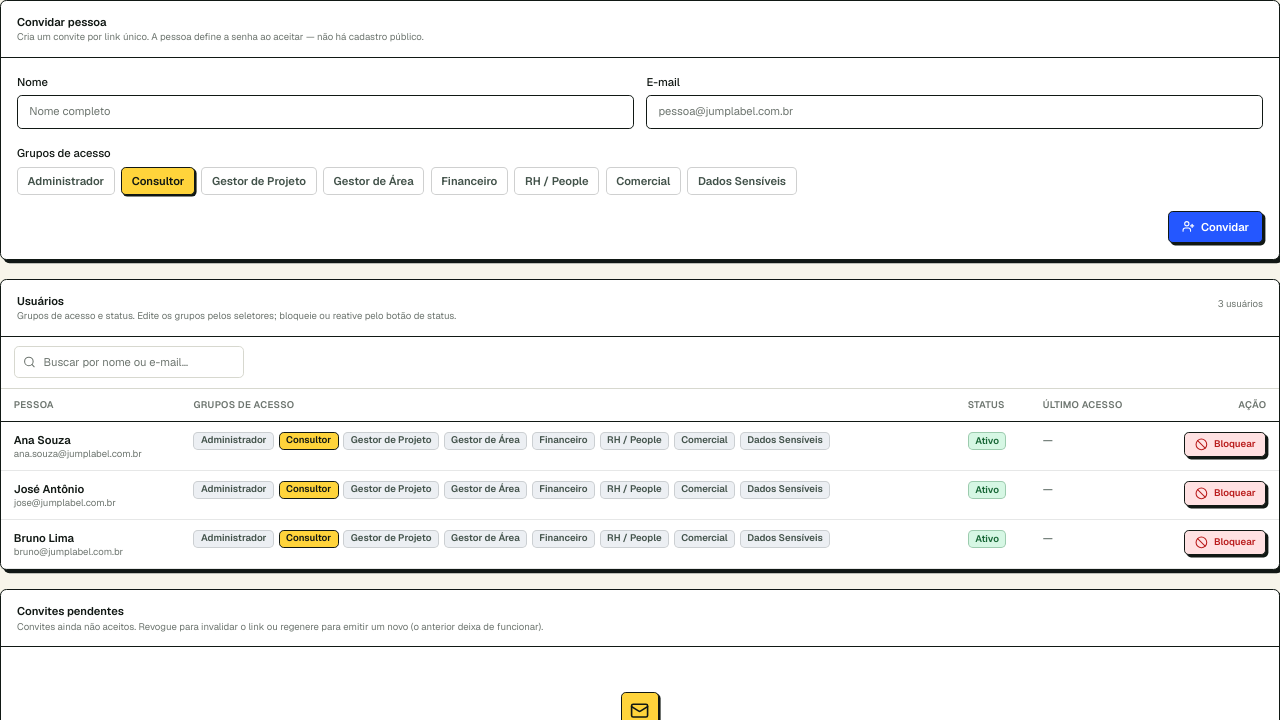
Test: AccessAdminView — filtro de usuários › mostra o recorte no contador
Type "a" into the search field named "Buscar usuário por nome ou e-mail". click: (129, 362)
box: [14,346,244,378]
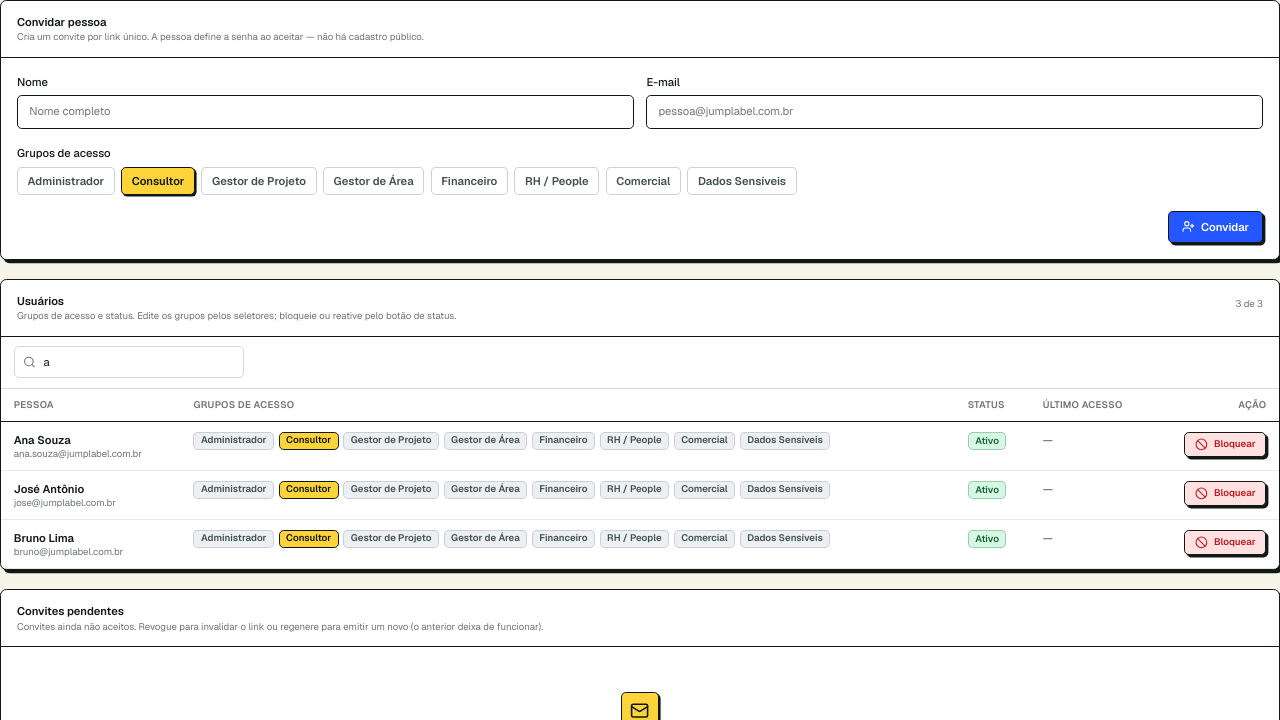
expect the text "3 de 3" is shown: met, box [1235,297,1263,310]
